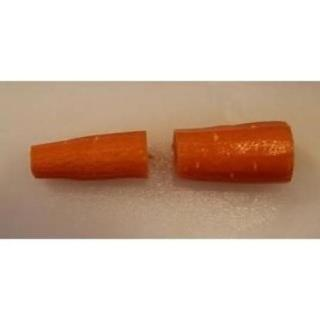carrot: (170, 116, 297, 190), (22, 122, 160, 186)
